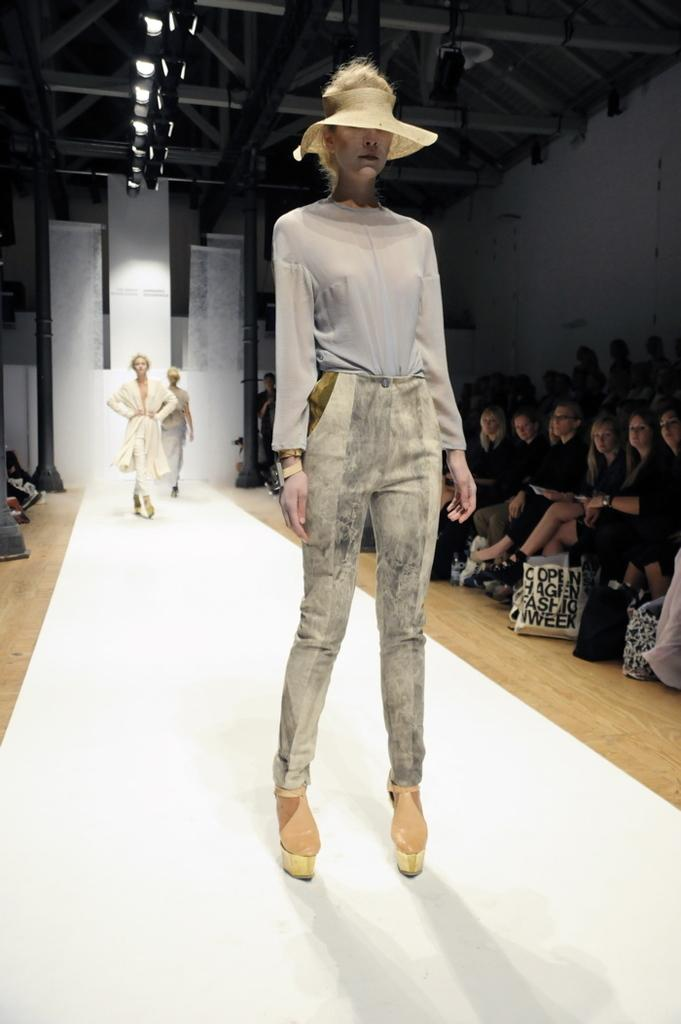Hat: (290, 82, 438, 164)
